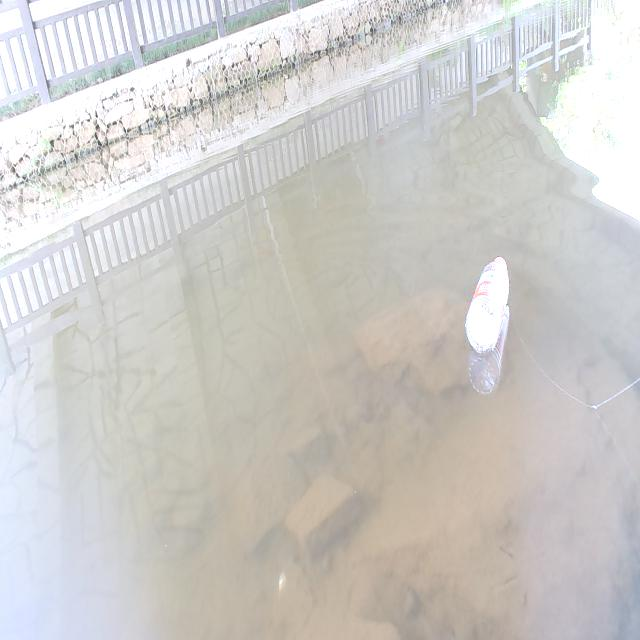bottle: (444, 228, 527, 375)
